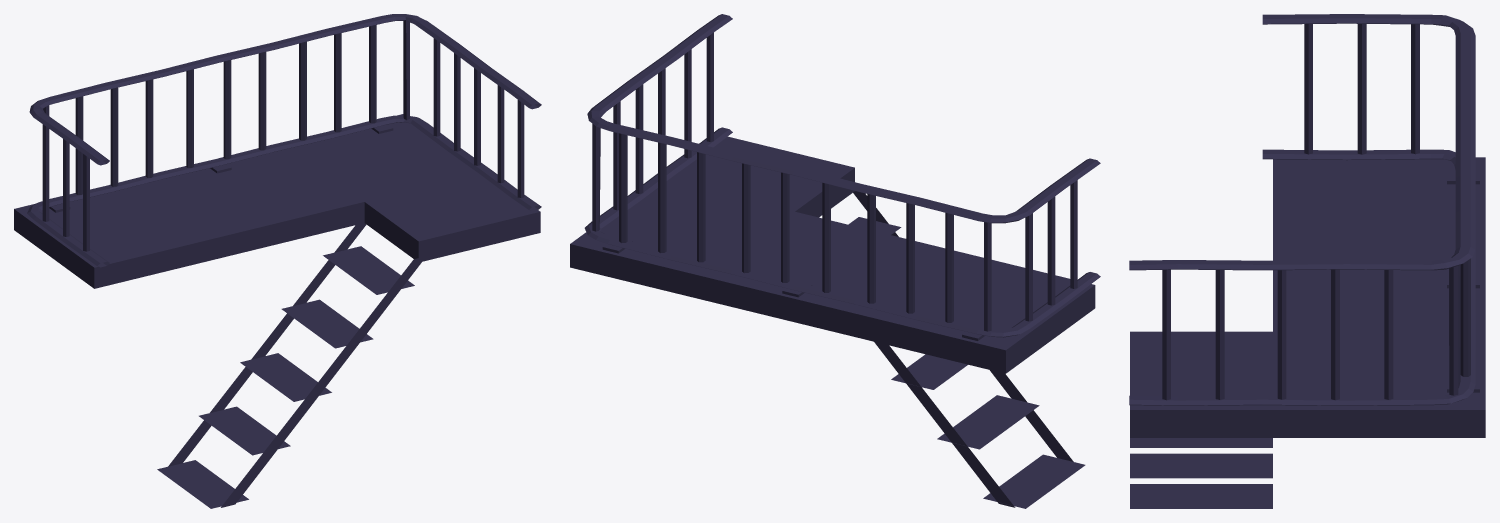
Rendered from Building Stairs.fbx.
3 renders of one model, left to right at view 1: azimuth 30°, elevation 25°; view 2: azimuth 150°, elevation 25°; view 3: azimuth 270°, elevation 25°, orthographic. The views are drawn at different scales.
Parts seen in each view (by area): view 1: Cube, Barrier.001; view 2: Cube, Barrier.001; view 3: Cube, Barrier.001.
Boxes of the visible parts, box(x1,y1,x2,y2) form: Cube: box(14, 114, 540, 508); Barrier.001: box(27, 14, 541, 267); Cube: box(570, 136, 1095, 508); Barrier.001: box(584, 14, 1100, 340); Cube: box(1130, 157, 1485, 508); Barrier.001: box(1129, 14, 1479, 405).
Bounding box in the file's own units: 381 × 225 × 302.
